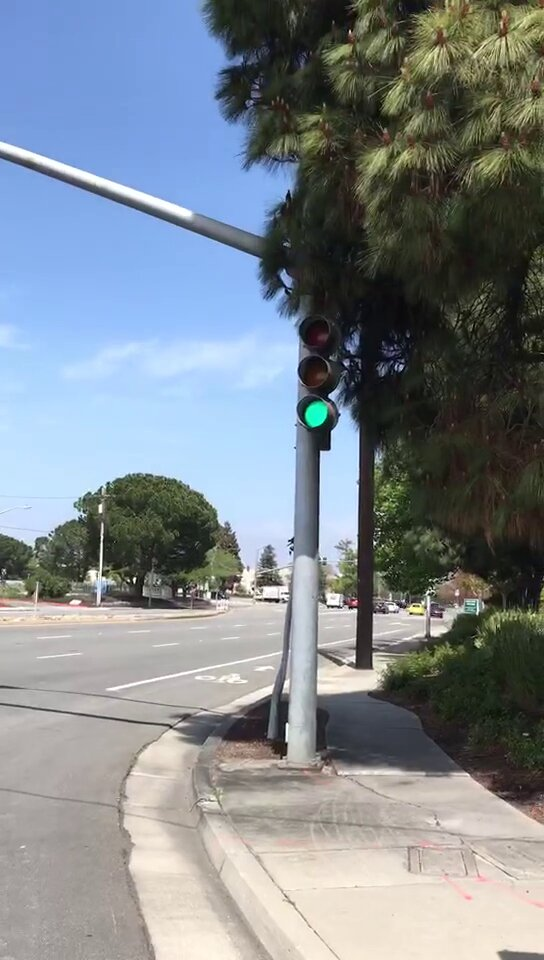green_light: (298, 312, 331, 429)
